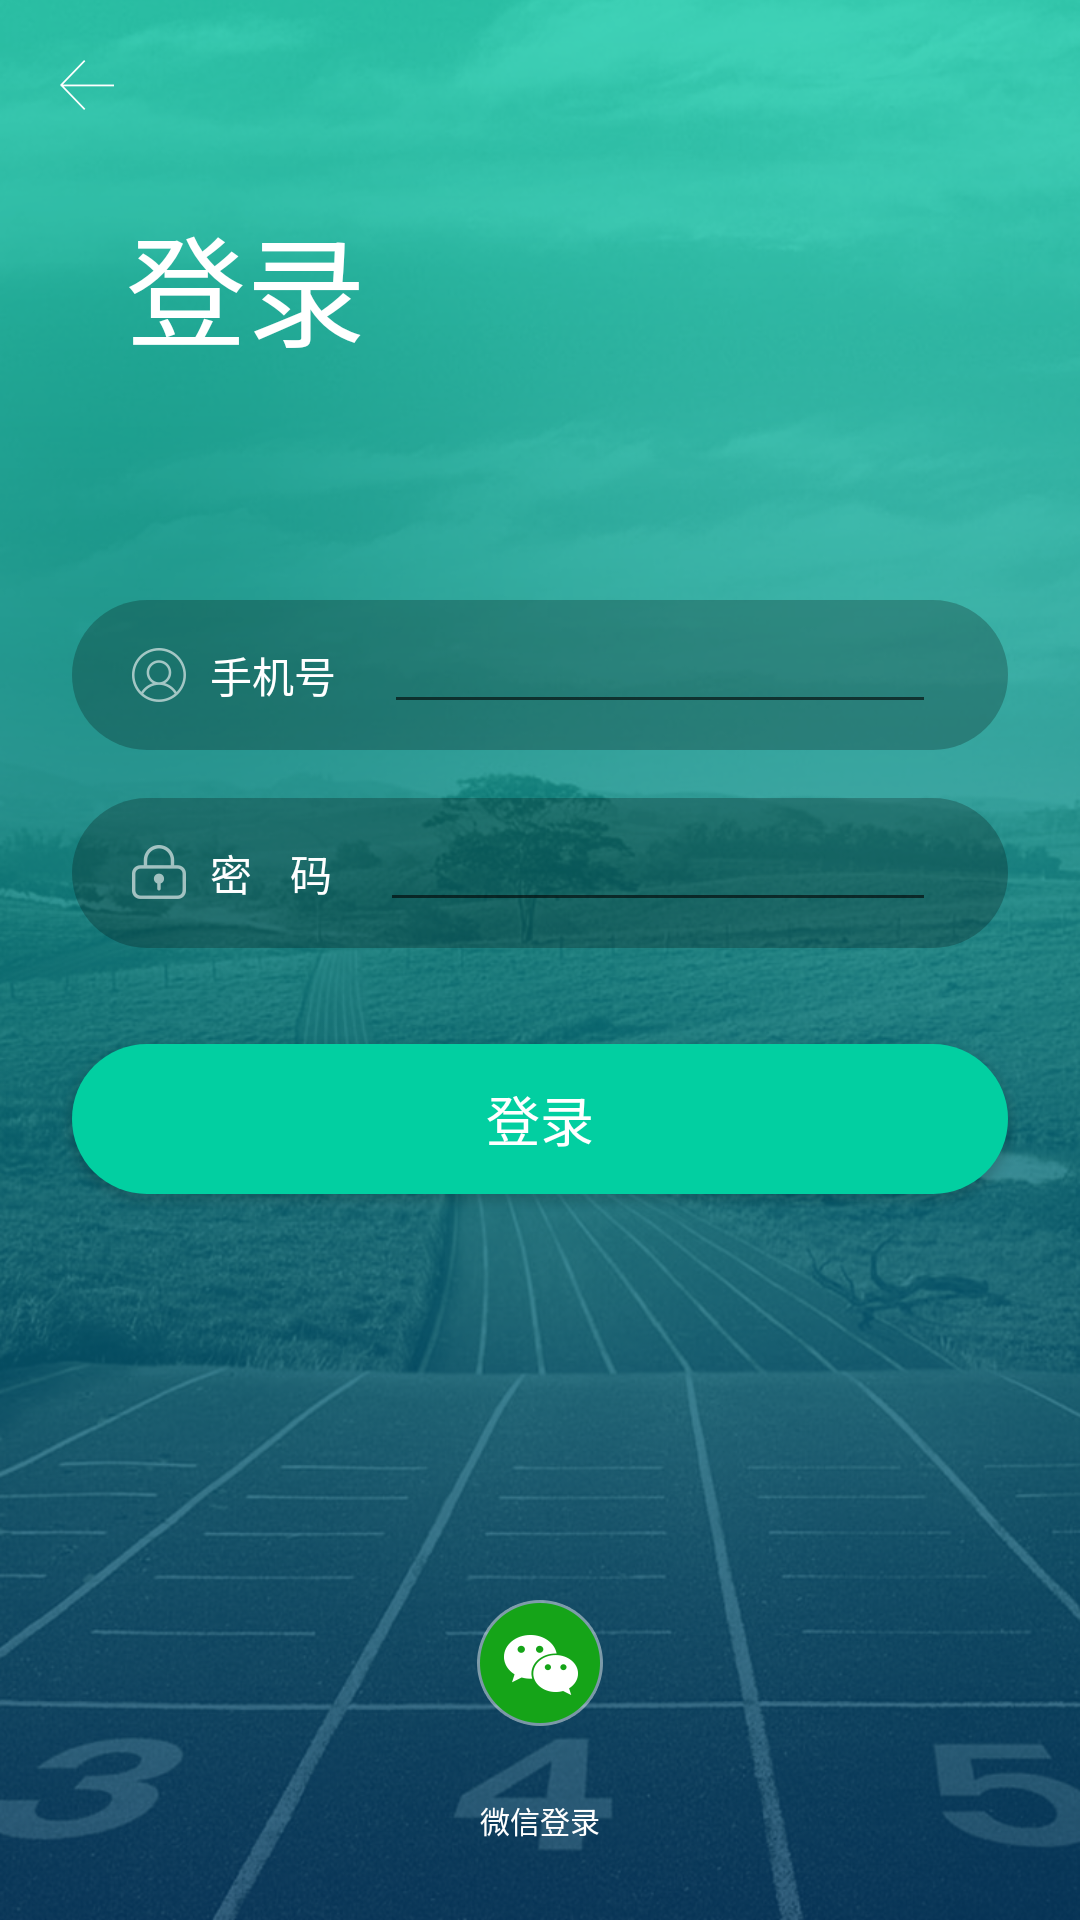

Locate icon controls on the screen. Image size 1080px x 1920px, boxes as (left=x1, top=y1, right=x2, bottom=y2).
back: (left=60, top=60, right=114, bottom=110)
